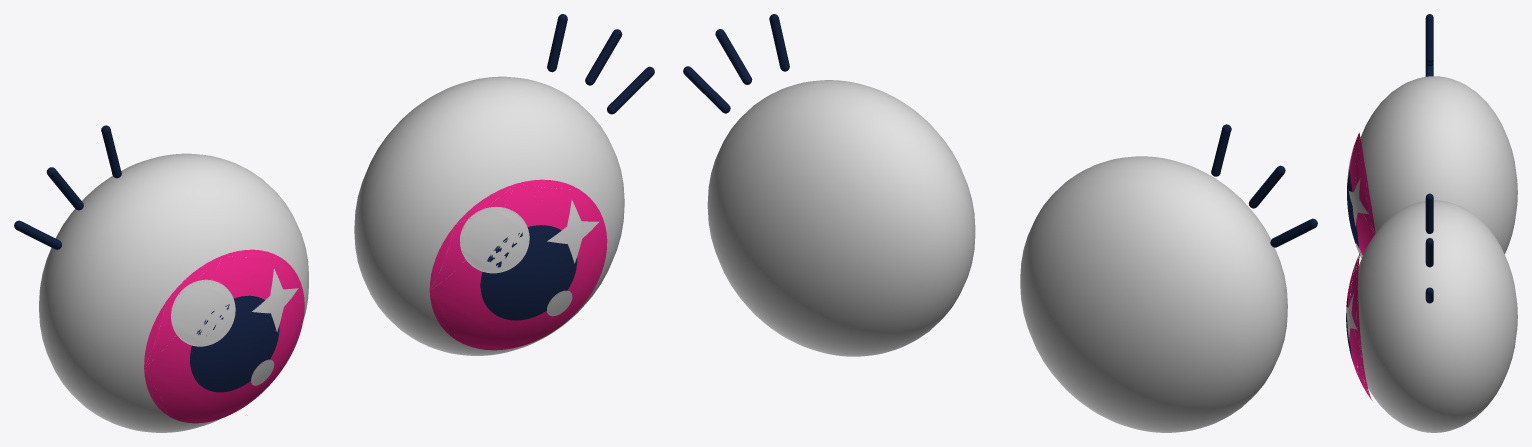
The model's file is eyes-star.glb.
The picture shows the model from 3 angles, left to right: view 1: azimuth 30°, elevation 25°; view 2: azimuth 150°, elevation 25°; view 3: azimuth 270°, elevation 25°; orthographic projection. The views are drawn at different scales.
Parts seen in each view (by area): view 1: eyes_1_ball, eyes_8_ball, eyes_9_paint, eyes_2_paint, eyes_10_paint, eyes_3_paint, eyes_11_paint, eyes_4_paint, eyes_7_line, eyes_0_line, eyes_13_paint, eyes_6_paint; view 2: eyes_8_ball, eyes_1_ball, eyes_7_line, eyes_0_line; view 3: eyes_8_ball, eyes_1_ball, eyes_2_paint, eyes_9_paint, eyes_7_line, eyes_0_line, eyes_3_paint, eyes_6_paint, eyes_13_paint.
Part boxes in pixels (x1,y1,x2,y2): eyes_1_ball: (39,153,308,432); eyes_8_ball: (354,76,624,355); eyes_9_paint: (429,179,607,350); eyes_2_paint: (144,249,304,423); eyes_10_paint: (480,225,577,320); eyes_3_paint: (190,295,279,392); eyes_11_paint: (460,206,529,273); eyes_4_paint: (171,279,235,346); eyes_7_line: (547,14,654,114); eyes_0_line: (14,125,121,249); eyes_13_paint: (547,200,599,263); eyes_6_paint: (252,268,298,332); eyes_8_ball: (707,80,975,356); eyes_1_ball: (1020,156,1287,432); eyes_7_line: (683,14,789,113); eyes_0_line: (1211,124,1317,247); eyes_8_ball: (1355,200,1517,432); eyes_1_ball: (1355,76,1517,253); eyes_2_paint: (1349,132,1375,254); eyes_9_paint: (1348,251,1372,400); eyes_7_line: (1425,193,1433,303); eyes_0_line: (1425,14,1433,76); eyes_3_paint: (1347,170,1358,247); eyes_6_paint: (1348,178,1368,226); eyes_13_paint: (1346,293,1357,341).
Bounding box in the file's own units: 0.9408 × 0.4464 × 0.2717.
